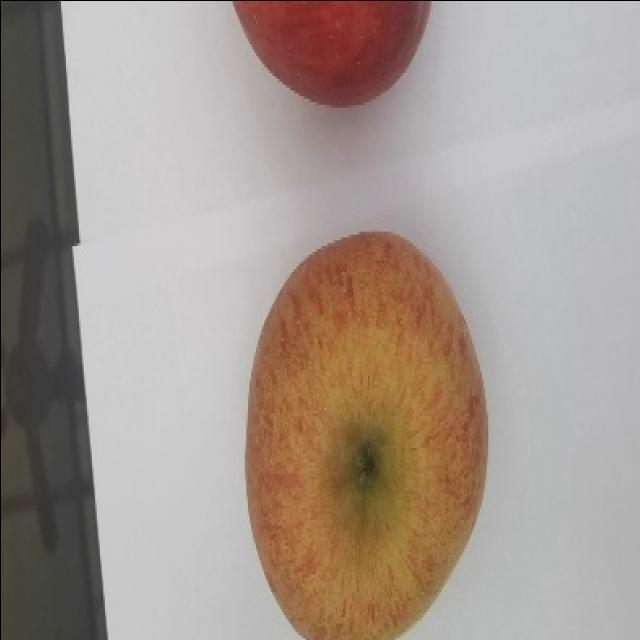Apple: (244, 229, 489, 639), (231, 0, 431, 108)
